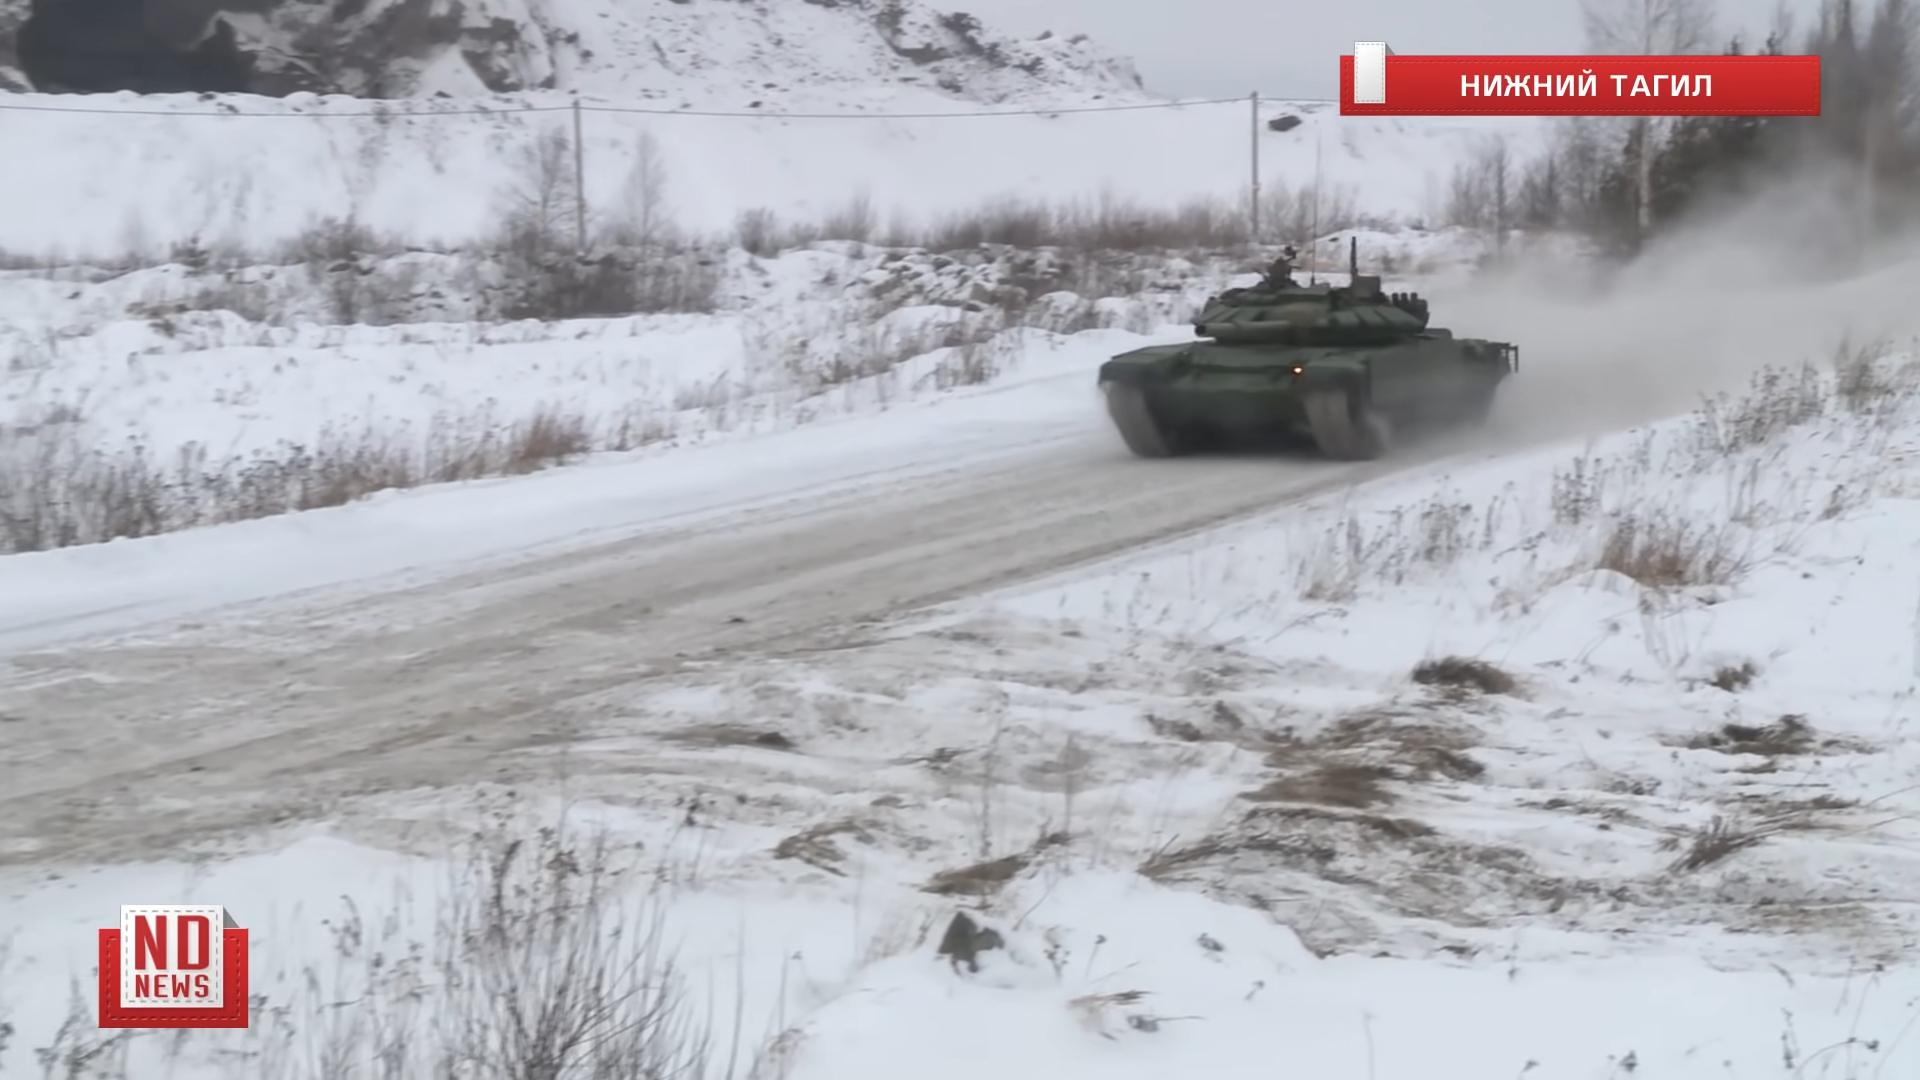tank: (1096, 261, 1522, 459)
